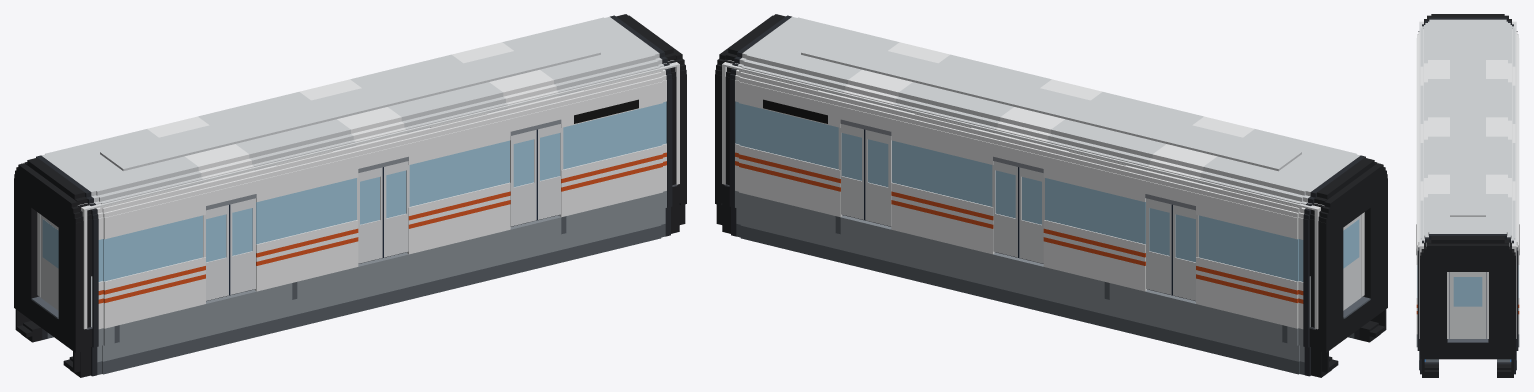
Rendered from beijing_s1_car.obj.
3 renders of one model, left to right at view 1: azimuth 30°, elevation 25°; view 2: azimuth 150°, elevation 25°; view 3: azimuth 270°, elevation 25°, orthographic. The views are drawn at different scales.
Parts seen in each view (by area): view 1: SHELL, SHELL_roof, SHELL_diaphragm, SHELL_ceiling, EXTERNAL_DOOR_16_CG_DR3_TOGGLE_TL_-0.59_X, EXTERNAL_DOOR_10_CG_DR2_TOGGLE_TL_-0.59_X, EXTERNAL_DOOR_4_CG_DR1_TOGGLE_TL_-0.59_X, EXTERNAL_DOOR_5_CG_DR1_TOGGLE_TL_0.59_X, EXTERNAL_DOOR_11_CG_DR2_TOGGLE_TL_0.59_X, EXTERNAL_DOOR_17_CG_DR3_TOGGLE_TL_0.59_X, CONNECTING_DOOR_1_CG_CR_TOGGLE_TL_0.98_Z, SHELL_end (+2 smaller); view 2: SHELL, SHELL_roof, SHELL_diaphragm, SHELL_ceiling, EXTERNAL_DOOR_19_CG_DL3_TOGGLE_TL_-0.59_X, EXTERNAL_DOOR_13_CG_DL2_TOGGLE_TL_-0.59_X, EXTERNAL_DOOR_7_CG_DL1_TOGGLE_TL_-0.59_X, EXTERNAL_DOOR_8_CG_DL1_TOGGLE_TL_0.59_X, EXTERNAL_DOOR_14_CG_DL2_TOGGLE_TL_0.59_X, EXTERNAL_DOOR_20_CG_DL3_TOGGLE_TL_0.59_X, CONNECTING_DOOR_1_CG_CR_TOGGLE_TL_0.98_Z, SHELL_end (+2 smaller); view 3: SHELL, SHELL_diaphragm, SHELL_roof, CONNECTING_DOOR_2_CG_CF_TOGGLE_TL_0.98_Z, SHELL_ceiling, SHELL_end, SHELL_gangway, SHELL_floor.
Part boxes in pixels (x1=…): SHELL: x1=21, y1=14, x2=680, y2=377; SHELL_roof: x1=100, y1=35, x2=600, y2=171; SHELL_diaphragm: x1=14, y1=15, x2=686, y2=372; SHELL_ceiling: x1=81, y1=60, x2=677, y2=210; EXTERNAL_DOOR_16_CG_DR3_TOGGLE_TL_-0.59_X: x1=510, y1=129, x2=537, y2=226; EXTERNAL_DOOR_10_CG_DR2_TOGGLE_TL_-0.59_X: x1=357, y1=167, x2=383, y2=263; EXTERNAL_DOOR_4_CG_DR1_TOGGLE_TL_-0.59_X: x1=203, y1=204, x2=230, y2=300; EXTERNAL_DOOR_5_CG_DR1_TOGGLE_TL_0.59_X: x1=230, y1=198, x2=255, y2=294; EXTERNAL_DOOR_11_CG_DR2_TOGGLE_TL_0.59_X: x1=384, y1=161, x2=409, y2=257; EXTERNAL_DOOR_17_CG_DR3_TOGGLE_TL_0.59_X: x1=538, y1=124, x2=563, y2=219; CONNECTING_DOOR_1_CG_CR_TOGGLE_TL_0.98_Z: x1=40, y1=215, x2=58, y2=310; SHELL_end: x1=21, y1=60, x2=679, y2=329; SHELL: x1=721, y1=14, x2=1380, y2=377; SHELL_roof: x1=801, y1=35, x2=1301, y2=171; SHELL_diaphragm: x1=715, y1=15, x2=1387, y2=372; SHELL_ceiling: x1=724, y1=60, x2=1320, y2=210; EXTERNAL_DOOR_19_CG_DL3_TOGGLE_TL_-0.59_X: x1=864, y1=129, x2=891, y2=226; EXTERNAL_DOOR_13_CG_DL2_TOGGLE_TL_-0.59_X: x1=1018, y1=167, x2=1044, y2=263; EXTERNAL_DOOR_7_CG_DL1_TOGGLE_TL_-0.59_X: x1=1171, y1=204, x2=1198, y2=300; EXTERNAL_DOOR_8_CG_DL1_TOGGLE_TL_0.59_X: x1=1146, y1=198, x2=1171, y2=294; EXTERNAL_DOOR_14_CG_DL2_TOGGLE_TL_0.59_X: x1=992, y1=161, x2=1017, y2=257; EXTERNAL_DOOR_20_CG_DL3_TOGGLE_TL_0.59_X: x1=838, y1=124, x2=863, y2=219; CONNECTING_DOOR_1_CG_CR_TOGGLE_TL_0.98_Z: x1=1343, y1=215, x2=1361, y2=310; SHELL_end: x1=722, y1=60, x2=1380, y2=329; SHELL: x1=1416, y1=14, x2=1519, y2=377; SHELL_diaphragm: x1=1420, y1=15, x2=1515, y2=375; SHELL_roof: x1=1450, y1=35, x2=1485, y2=216; CONNECTING_DOOR_2_CG_CF_TOGGLE_TL_0.98_Z: x1=1450, y1=272, x2=1485, y2=338; SHELL_ceiling: x1=1419, y1=22, x2=1516, y2=245; SHELL_end: x1=1419, y1=21, x2=1516, y2=338; SHELL_gangway: x1=1447, y1=337, x2=1488, y2=342; SHELL_floor: x1=1449, y1=272, x2=1486, y2=337.
Size of the model in its own units: 15.12 by 4.27 by 2.86.
1 material, 1 textured.
